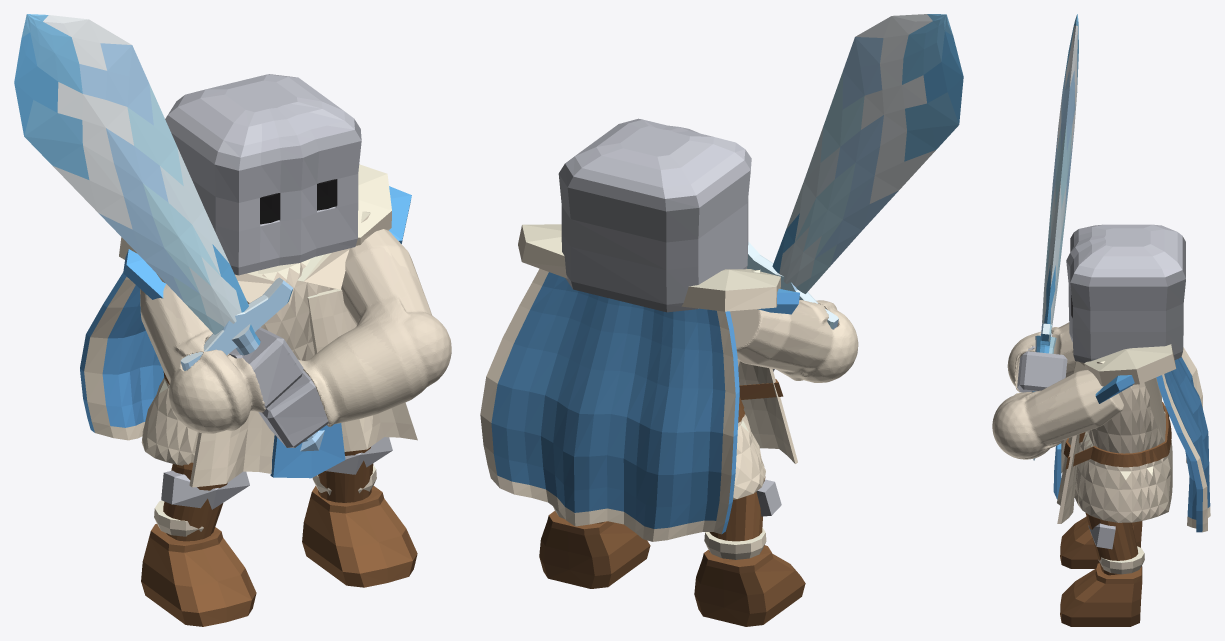
Rendered from rimewatch.glb.
The picture shows the model from 3 angles, left to right: view 1: azimuth 30°, elevation 25°; view 2: azimuth 150°, elevation 25°; view 3: azimuth 270°, elevation 25°; orthographic projection. The views are drawn at different scales.
Parts seen in each view (by area): view 1: Watchman single blue greatsword — slender widening source cr, Watchman winter helm — integrated stepped roof cheek nape an, Watchman LEFT — outer ivory sleeve over iron glove with expo, Watchman RIGHT — outer ivory sleeve over iron glove with exp, Watchman — shaped folded winter cape with raised corners and, Watchman — source brown boot 1, Watchman — source brown boot -1, Watchman — fitted continuously folded ivory flared tunic, Watchman — source curved flared ivory coat tail 1, Watchman — source curved flared ivory coat tail -1, Watchman single blue greatsword — one coherent shaped hilt, Watchman LEFT — fitted palm (+12 smaller); view 2: Watchman — shaped folded winter cape with raised corners and, Watchman winter helm — integrated stepped roof cheek nape an, Watchman single blue greatsword — slender widening source cr, Watchman RIGHT — outer ivory sleeve over iron glove with exp, Watchman — source brown boot 1, Watchman — source brown boot -1, Watchman — broad angular padded ivory shoulder collar 1, Watchman — source curved flared ivory coat tail 1, Watchman — broad angular padded ivory shoulder collar -1, Watchman — fitted continuously folded ivory flared tunic, Watchman — covered bent source brown trouser leg 1, Watchman — source turned ivory boot cuff 1 (+3 smaller); view 3: Watchman winter helm — integrated stepped roof cheek nape an, Watchman — fitted continuously folded ivory flared tunic, Watchman LEFT — outer ivory sleeve over iron glove with expo, Watchman — shaped folded winter cape with raised corners and, Watchman single blue greatsword — slender widening source cr, Watchman — source brown boot -1, Watchman — broad angular padded ivory shoulder collar -1, Watchman — thin curved actual leather waist belt outside coa, Watchman — source brown boot 1, Watchman RIGHT — fitted palm, Watchman RIGHT — outer ivory sleeve over iron glove with exp, Watchman — covered bent source brown trouser leg -1 (+6 smaller).
Boxes of the visible parts, bbox=[...] form: Watchman single blue greatsword — slender widening source cr: bbox=[14, 14, 248, 334]; Watchman winter helm — integrated stepped roof cheek nape an: bbox=[165, 74, 361, 275]; Watchman LEFT — outer ivory sleeve over iron glove with expo: bbox=[298, 229, 451, 426]; Watchman RIGHT — outer ivory sleeve over iron glove with exp: bbox=[140, 284, 265, 433]; Watchman — shaped folded winter cape with raised corners and: bbox=[80, 272, 164, 440]; Watchman — source brown boot 1: bbox=[141, 524, 256, 626]; Watchman — source brown boot -1: bbox=[302, 485, 417, 587]; Watchman — fitted continuously folded ivory flared tunic: bbox=[141, 258, 335, 465]; Watchman — source curved flared ivory coat tail 1: bbox=[189, 327, 274, 487]; Watchman — source curved flared ivory coat tail -1: bbox=[307, 289, 417, 451]; Watchman single blue greatsword — one coherent shaped hilt: bbox=[180, 277, 324, 451]; Watchman LEFT — fitted palm: bbox=[258, 370, 328, 447]; Watchman — shaped folded winter cape with raised corners and: bbox=[480, 268, 739, 541]; Watchman winter helm — integrated stepped roof cheek nape an: bbox=[558, 118, 751, 312]; Watchman single blue greatsword — slender widening source cr: bbox=[772, 14, 963, 293]; Watchman RIGHT — outer ivory sleeve over iron glove with exp: bbox=[730, 300, 858, 382]; Watchman — source brown boot 1: bbox=[694, 545, 805, 626]; Watchman — source brown boot -1: bbox=[539, 511, 650, 588]; Watchman — broad angular padded ivory shoulder collar 1: bbox=[681, 269, 780, 311]; Watchman — source curved flared ivory coat tail 1: bbox=[738, 361, 797, 463]; Watchman — broad angular padded ivory shoulder collar -1: bbox=[518, 224, 567, 278]; Watchman — fitted continuously folded ivory flared tunic: bbox=[733, 360, 765, 499]; Watchman — covered bent source brown trouser leg 1: bbox=[709, 476, 765, 551]; Watchman — source turned ivory boot cuff 1: bbox=[704, 527, 766, 559]; Watchman winter helm — integrated stepped roof cheek nape an: bbox=[1066, 224, 1185, 362]; Watchman — fitted continuously folded ivory flared tunic: bbox=[1074, 361, 1172, 522]; Watchman LEFT — outer ivory sleeve over iron glove with expo: bbox=[992, 370, 1123, 459]; Watchman — shaped folded winter cape with raised corners and: bbox=[1156, 347, 1210, 532]; Watchman single blue greatsword — slender widening source cr: bbox=[1041, 14, 1078, 328]; Watchman — source brown boot -1: bbox=[1060, 563, 1142, 626]; Watchman — broad angular padded ivory shoulder collar -1: bbox=[1084, 344, 1176, 386]; Watchman — thin curved actual leather waist belt outside coa: bbox=[1063, 402, 1171, 469]; Watchman — source brown boot 1: bbox=[1060, 516, 1142, 568]; Watchman RIGHT — fitted palm: bbox=[1017, 351, 1067, 392]; Watchman RIGHT — outer ivory sleeve over iron glove with exp: bbox=[1007, 322, 1075, 392]; Watchman — covered bent source brown trouser leg -1: bbox=[1085, 513, 1138, 575].
Bounding box in the file's own units: 0.982 × 1.42 × 0.5893.
